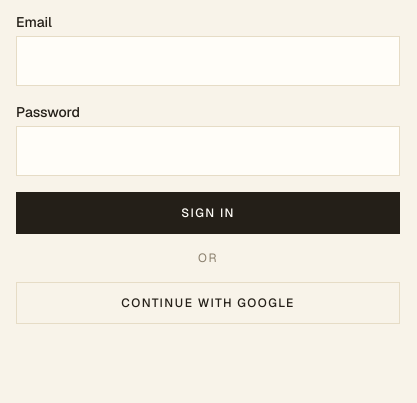
Test case: SignInForm › shows a generic error for invalid credentials (enumeration-safe)
The width and height of the screenshot is (417, 403).
In the field with test id "sign-in-email-input": (208, 61) x1=16 y1=36 x2=400 y2=86, type "wrong@example.com"
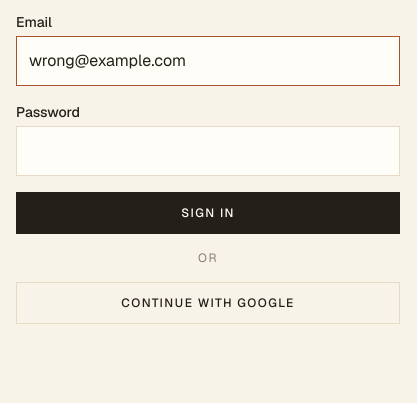
In the password field with test id "sign-in-password-input": (208, 151) x1=16 y1=126 x2=400 y2=176, type "wrongpass"
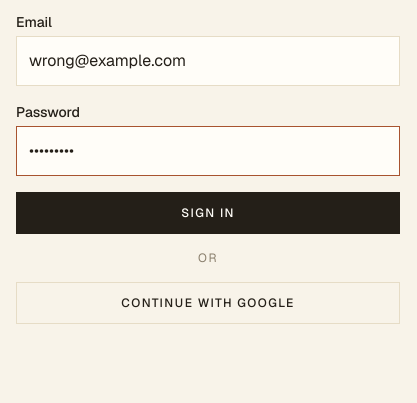
Click the button with test id "sign-in-submit-button": (208, 213) x1=16 y1=192 x2=400 y2=234
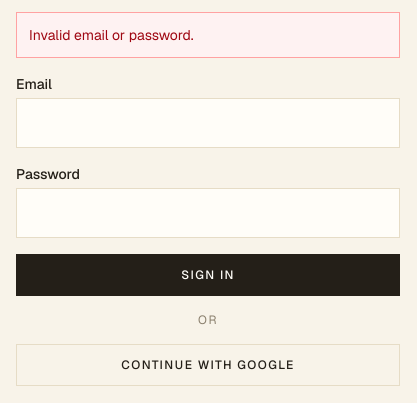
Expected: the text "Invalid email or password." is shown, x1=16 y1=12 x2=400 y2=58
